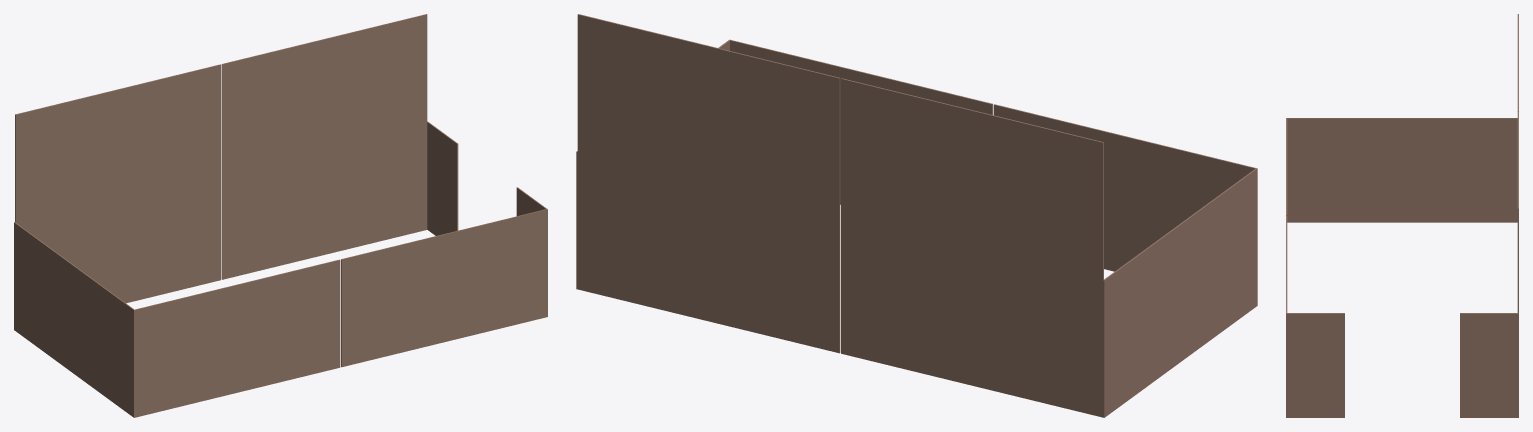
Rendered from awingWallTwo.gltf.
The picture shows the model from 3 angles, left to right: view 1: azimuth 30°, elevation 25°; view 2: azimuth 150°, elevation 25°; view 3: azimuth 270°, elevation 25°; orthographic projection. The views are drawn at different scales.
Visible parts, largest first — view 1: awingWallTwo; view 2: awingWallTwo; view 3: awingWallTwo.
Boxes of the visible parts, bbox=[...] form: awingWallTwo: bbox=[14, 14, 547, 417]; awingWallTwo: bbox=[576, 14, 1257, 417]; awingWallTwo: bbox=[1286, 14, 1518, 417].
Bounding box in the file's own units: 4.02 × 2 × 2.02.
